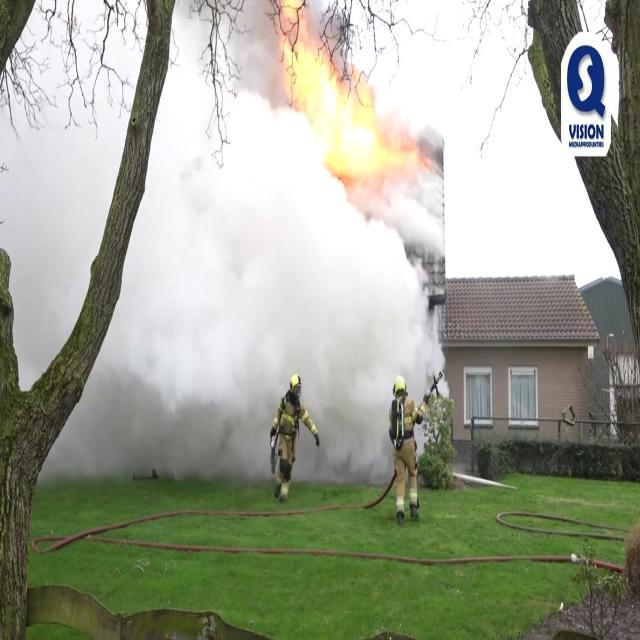Fire: (272, 6, 428, 187)
Smoke: (117, 10, 440, 448)
